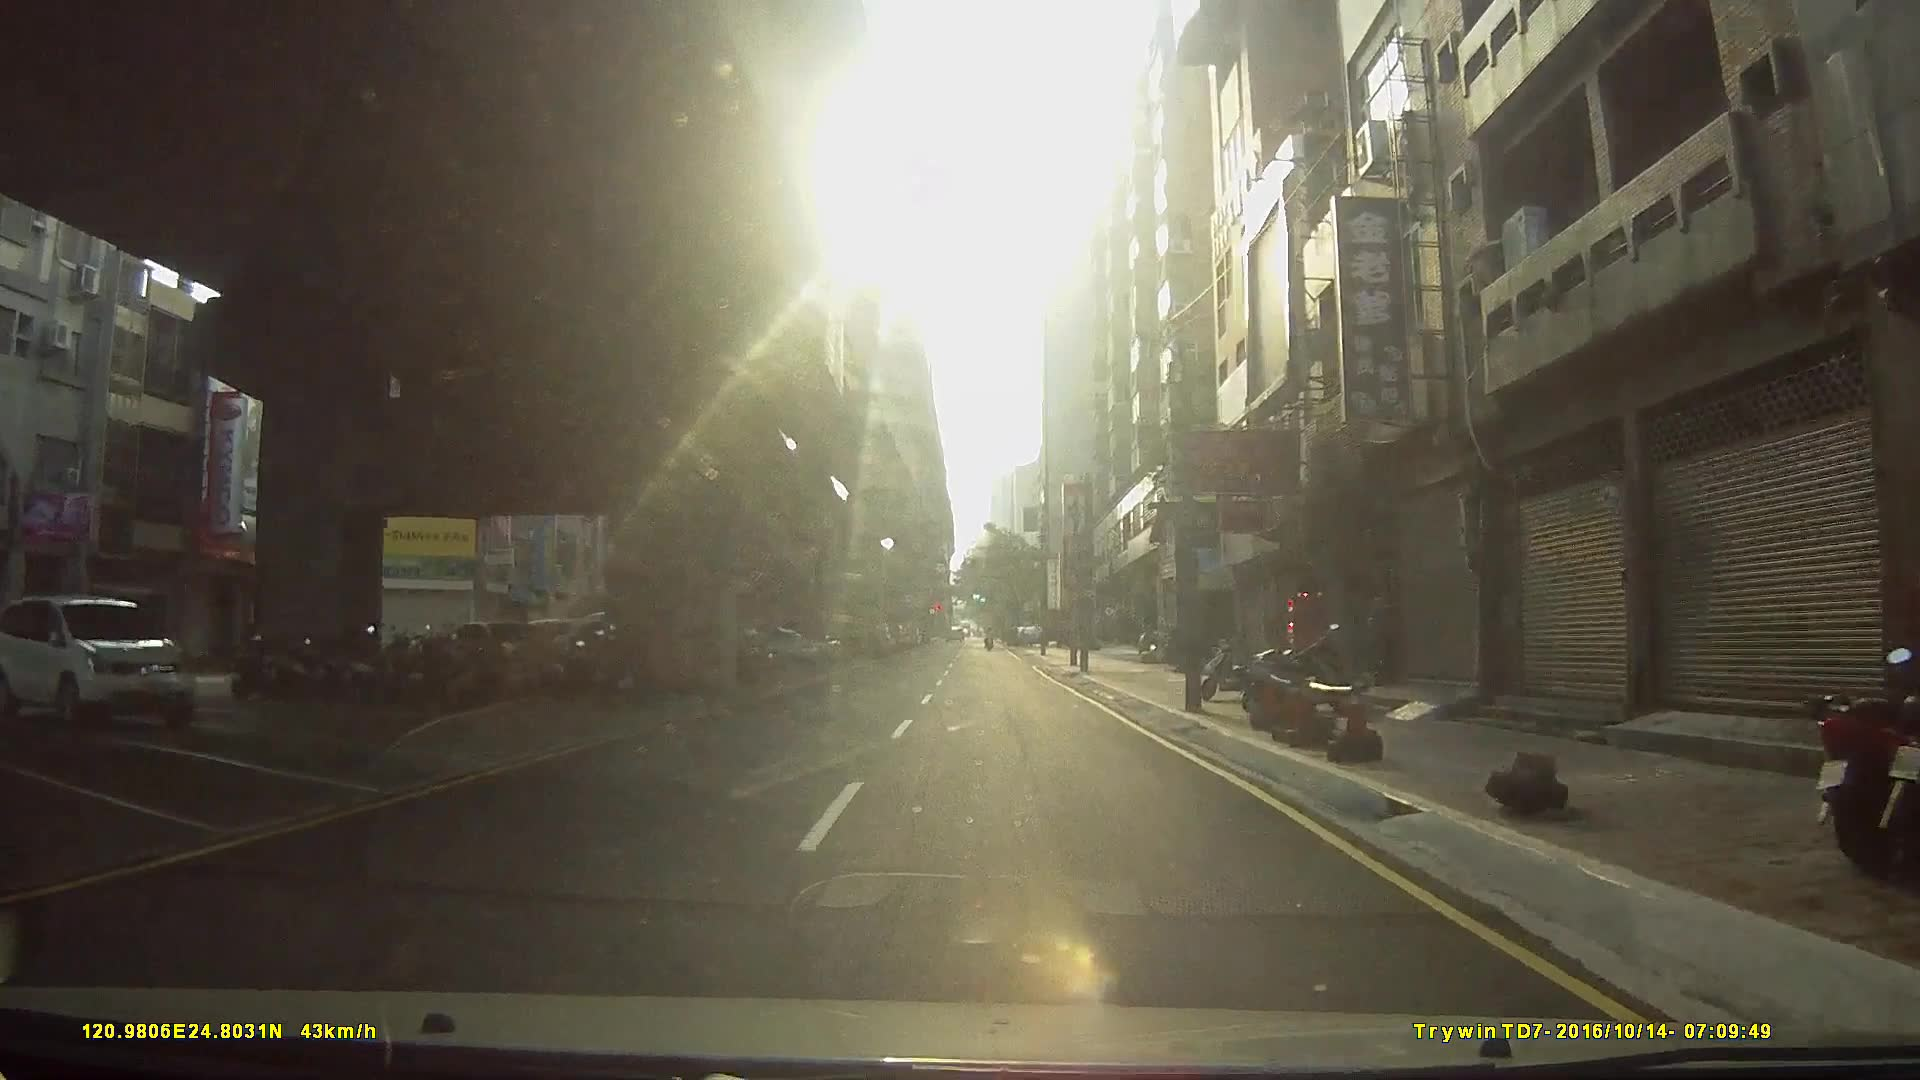vehicle: (3, 592, 196, 729)
